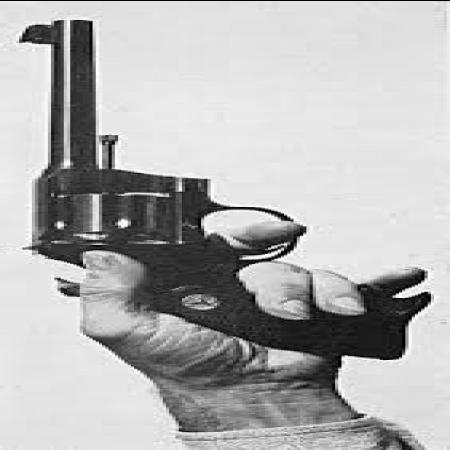Pistol: (7, 16, 414, 362)
